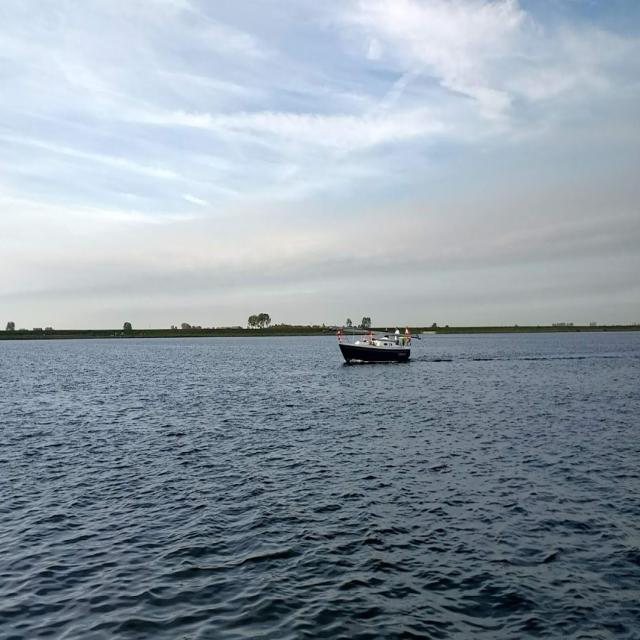houseboat: (336, 318, 415, 369)
